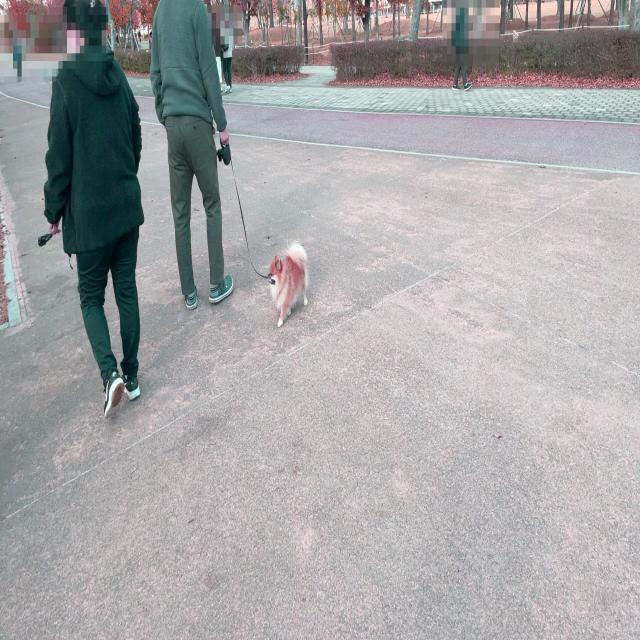Leashed_Dog: (209, 124, 309, 328)
